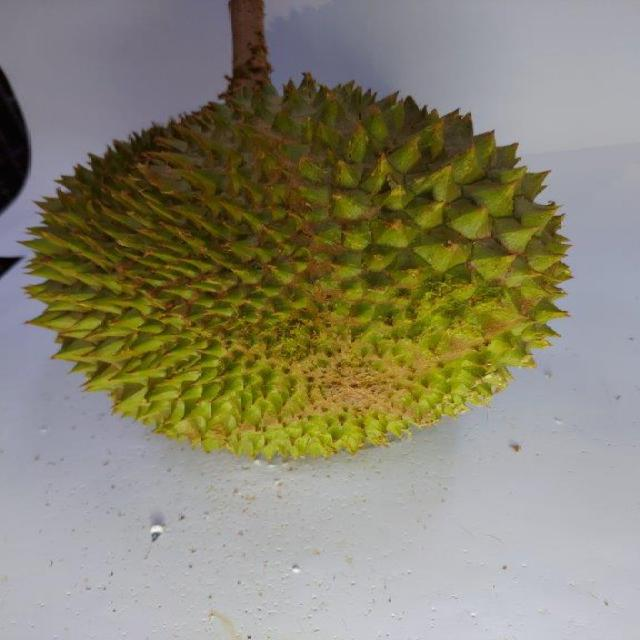immature: (21, 71, 579, 464)
